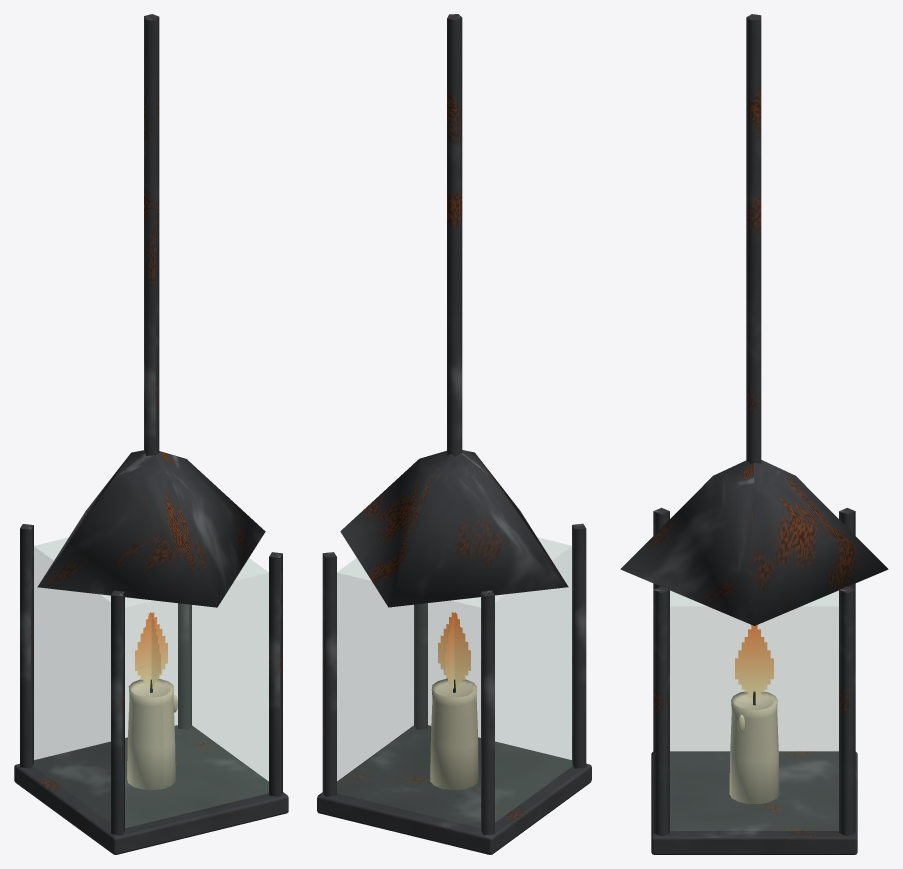
The model's file is hangingLantern.glb.
3 renders of one model, left to right at view 1: azimuth 30°, elevation 25°; view 2: azimuth 150°, elevation 25°; view 3: azimuth 270°, elevation 25°, orthographic.
Visible parts, largest first — view 1: anim_swing_0; view 2: anim_swing_0; view 3: anim_swing_0.
Part boxes in pixels (x1,y1,x2,y2): anim_swing_0: (14, 14, 288, 854); anim_swing_0: (317, 14, 591, 854); anim_swing_0: (620, 14, 888, 854).
Size of the model in its own units: 0.2602 by 0.8501 by 0.2602.
5 materials, 3 textured.
